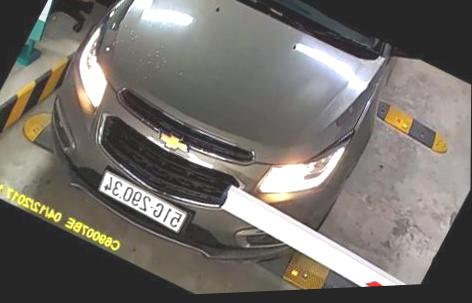License_Plate: (98, 168, 192, 238)
